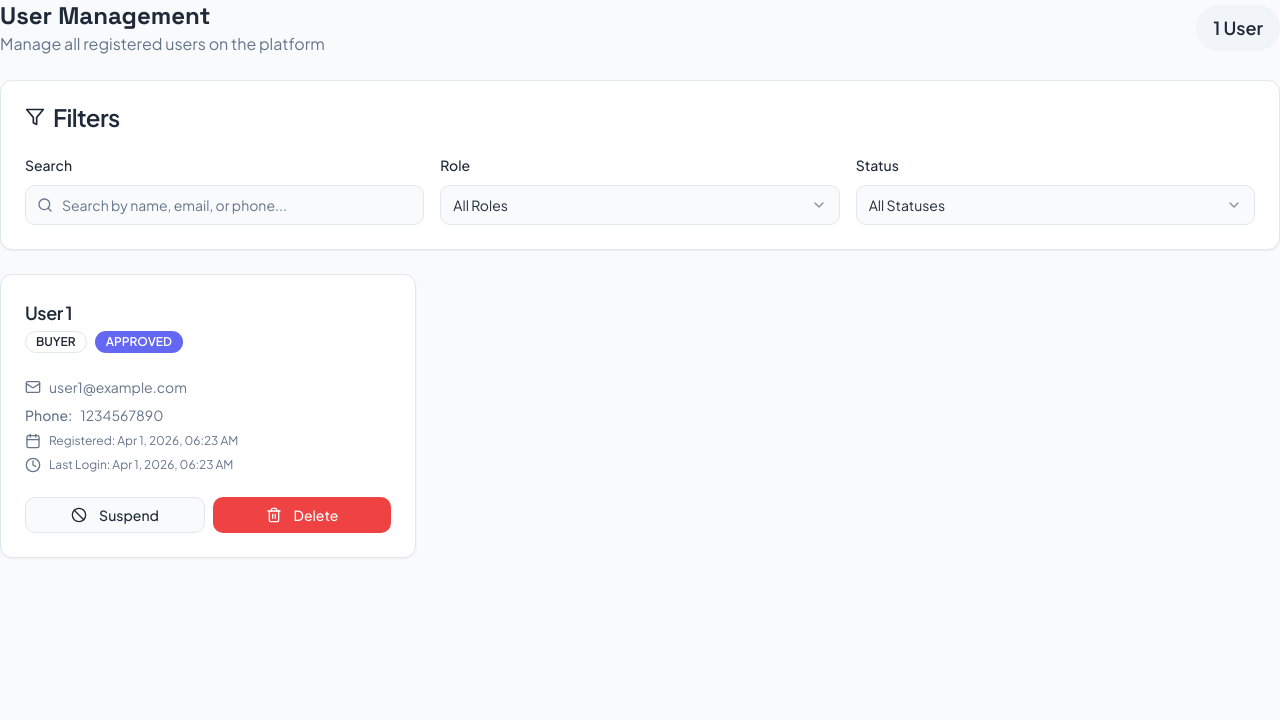
Scenario: UserManagement › should open confirmation dialog when delete button is clicked
expect the text "User 1" is shown: met, box [25,301,72,324]
Click the button "Delete": point(302, 515) [213,497,391,533]
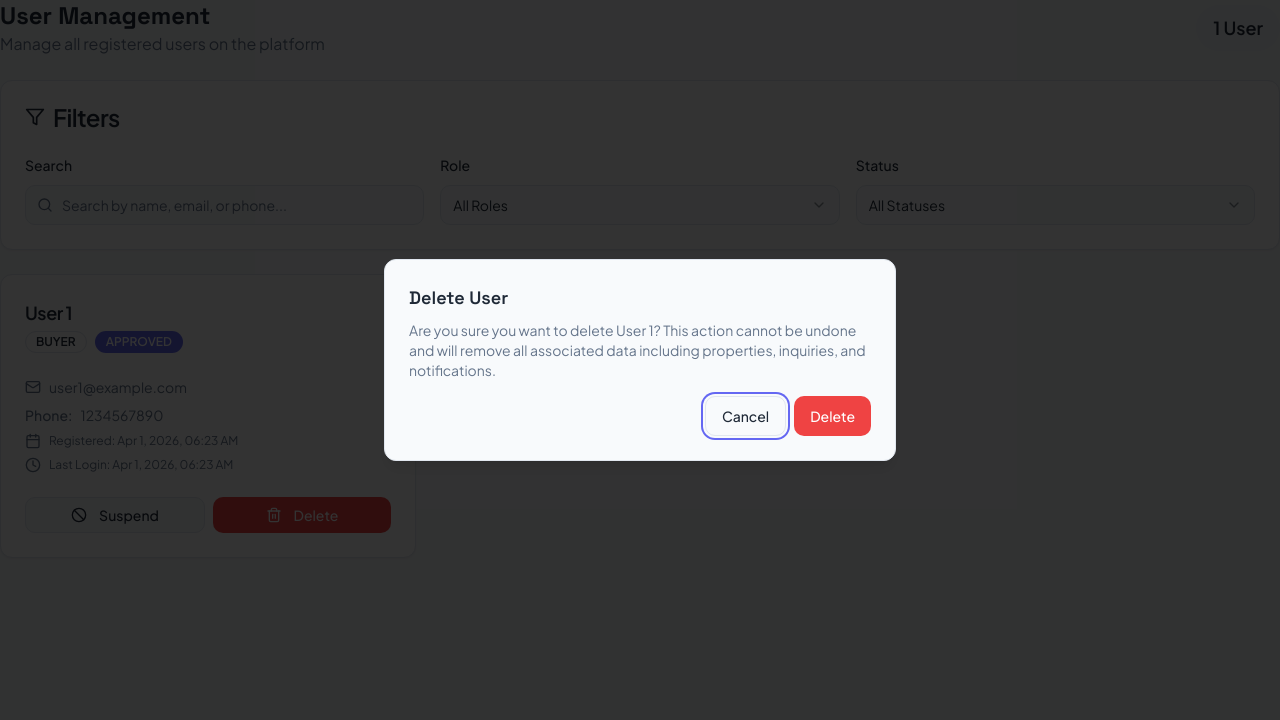
expect the text "Are you sure you want to delete" is shown: met, box [409,321,616,339]
